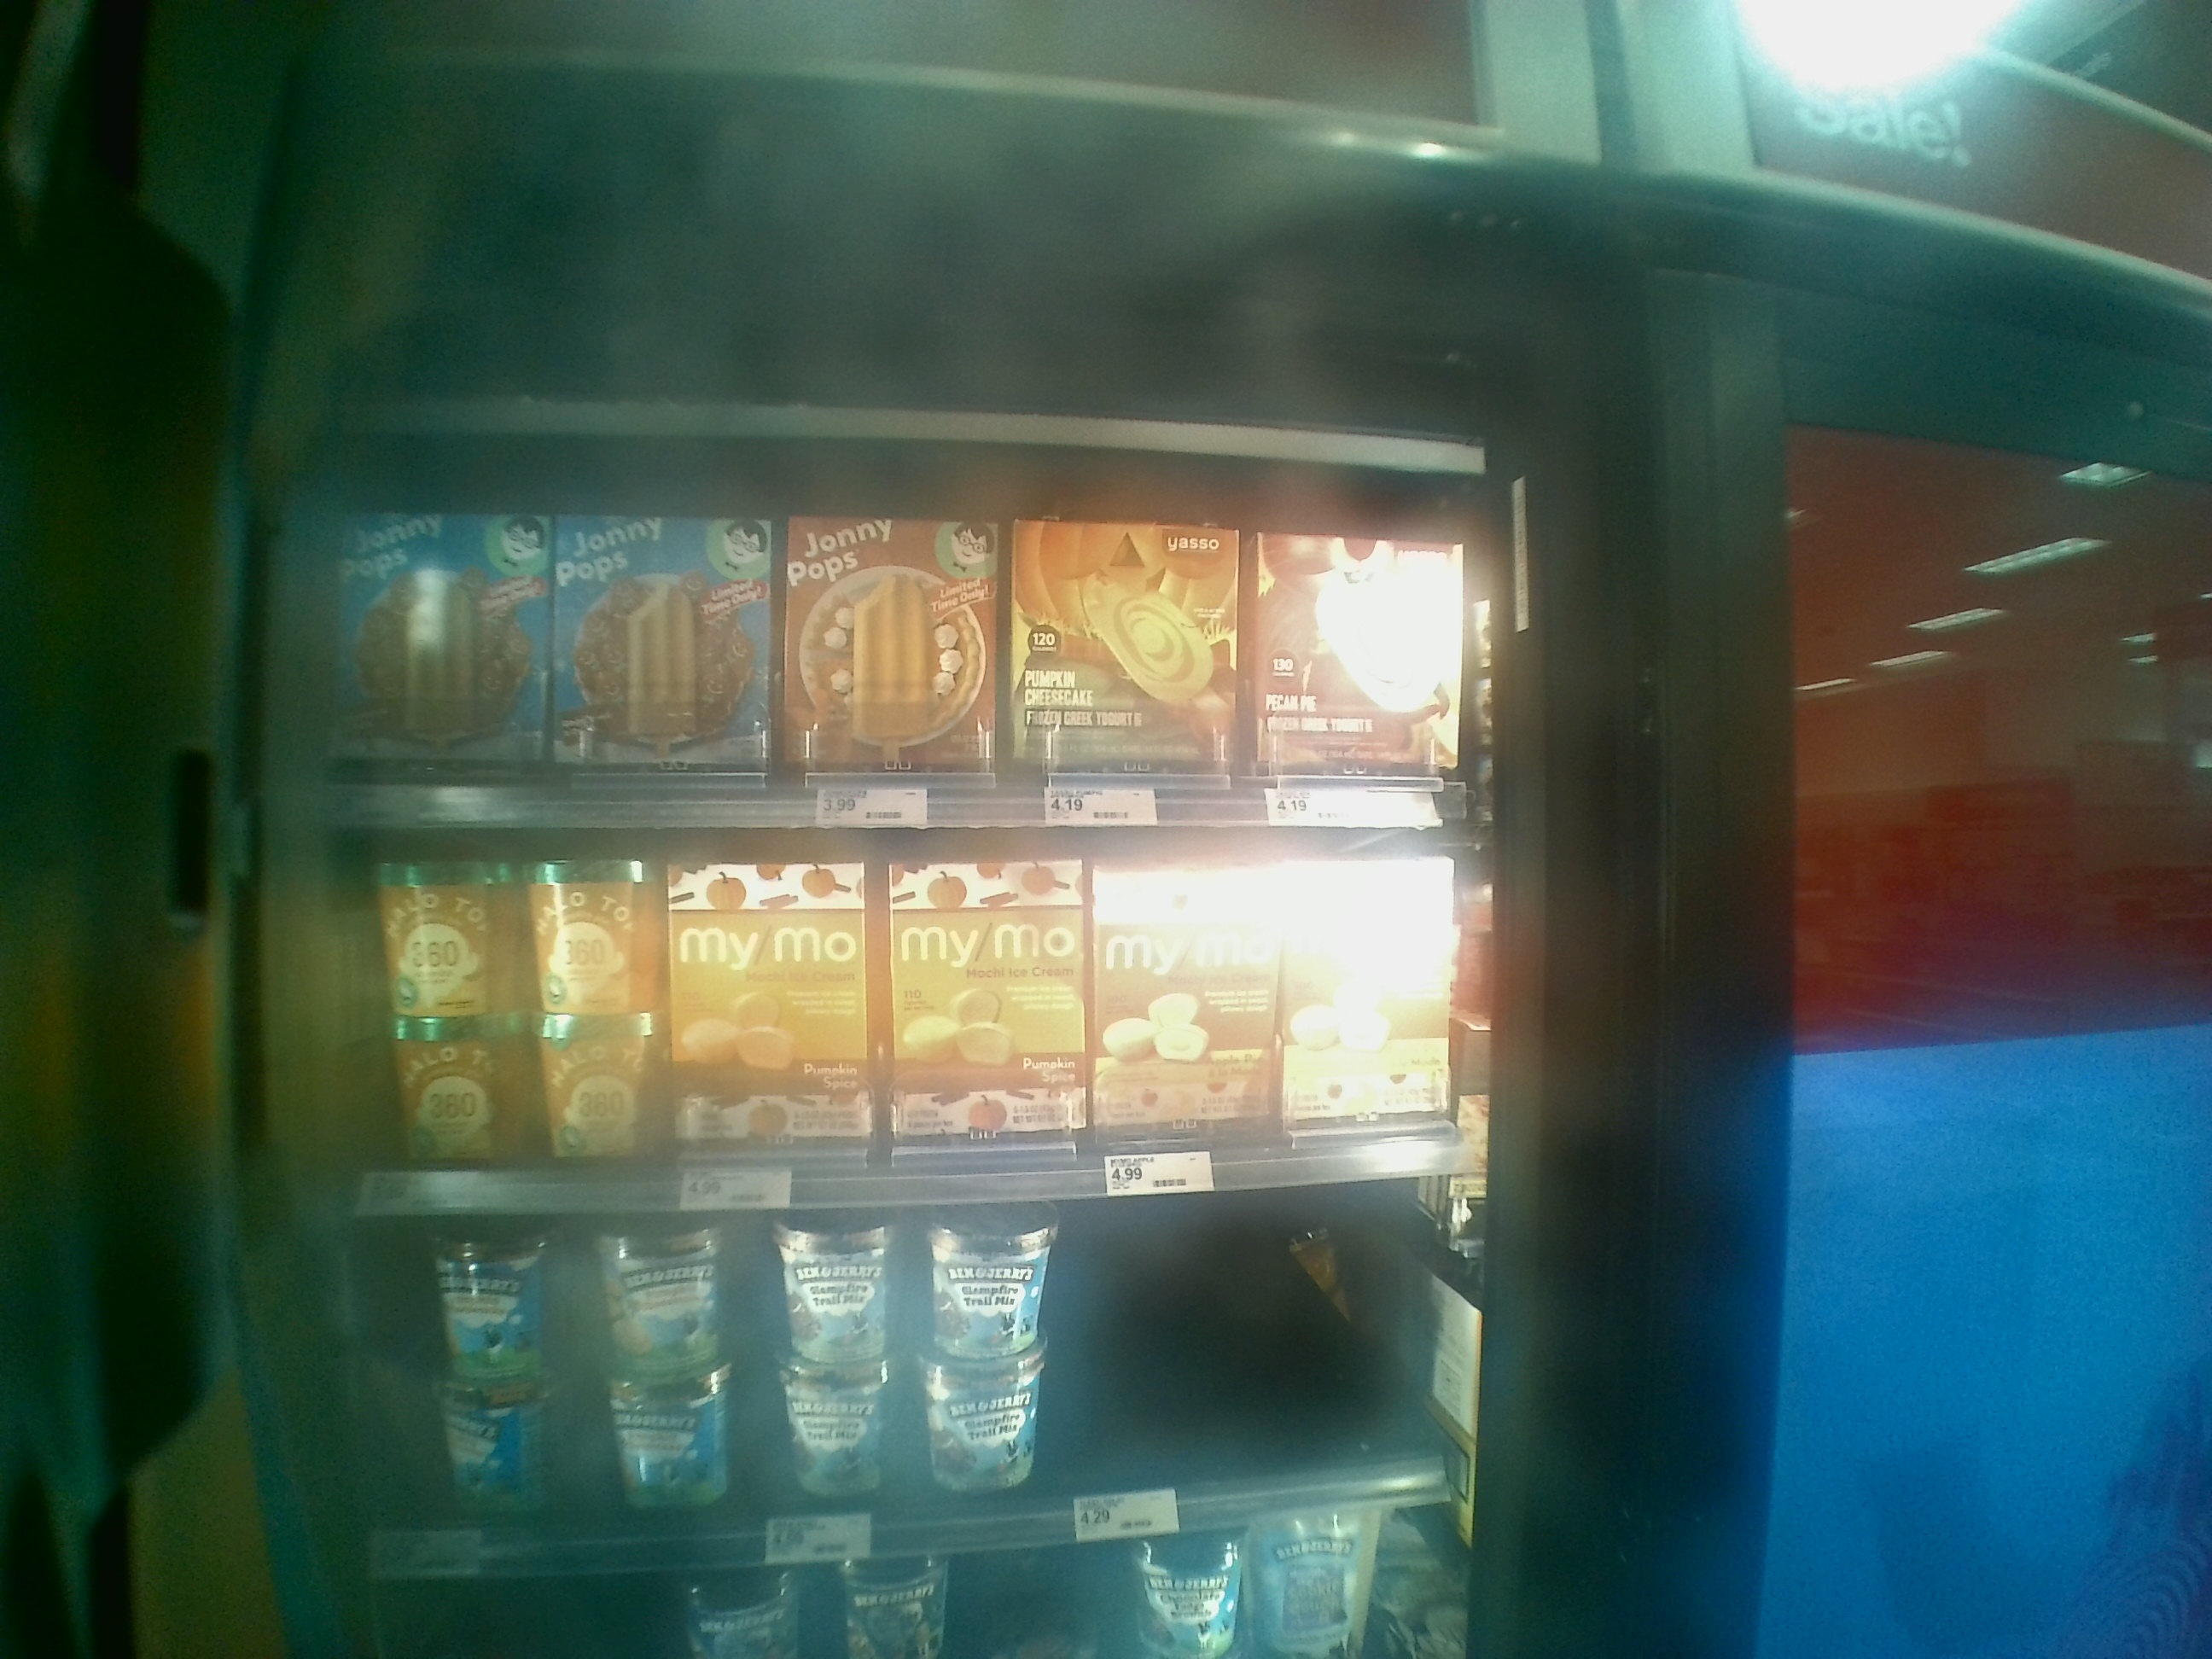shelf: (298, 802, 1456, 1164), (298, 474, 1456, 816), (317, 1176, 1442, 1506)
